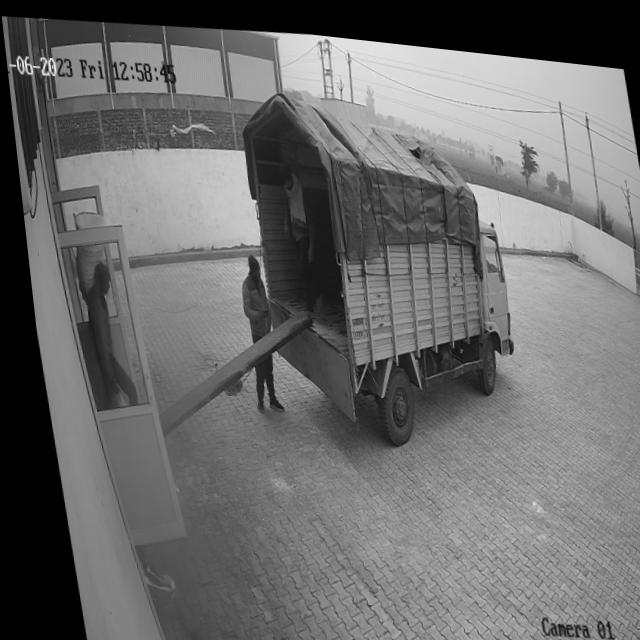sack: (62, 207, 113, 304)
